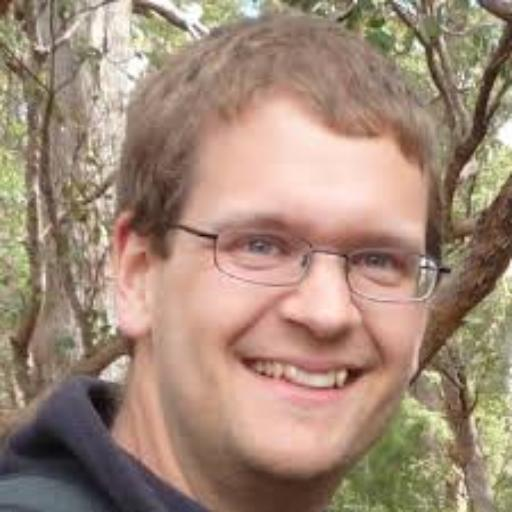left_eye: (349, 253, 412, 279)
left_lip_corner: (355, 360, 378, 381)
right_eye: (229, 236, 295, 261)
right_lip_corner: (223, 345, 253, 372)
